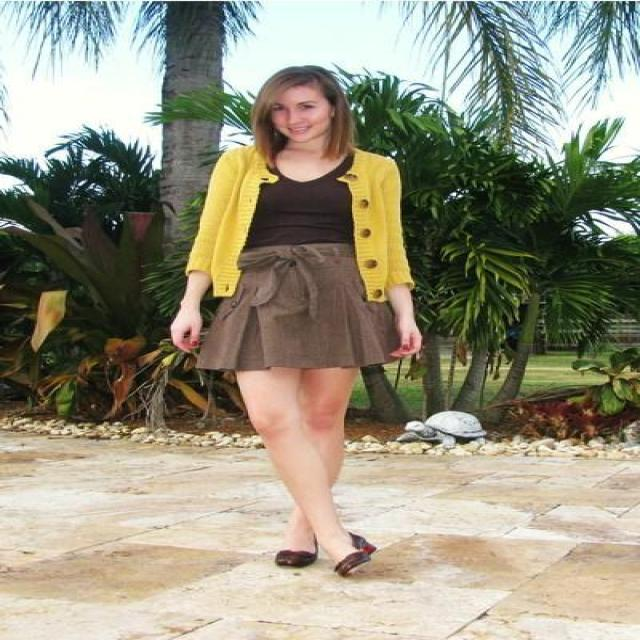jacket: (185, 143, 412, 319)
shirt: (243, 166, 355, 250)
shoe: (275, 532, 379, 575)
skirt: (189, 236, 403, 370)
